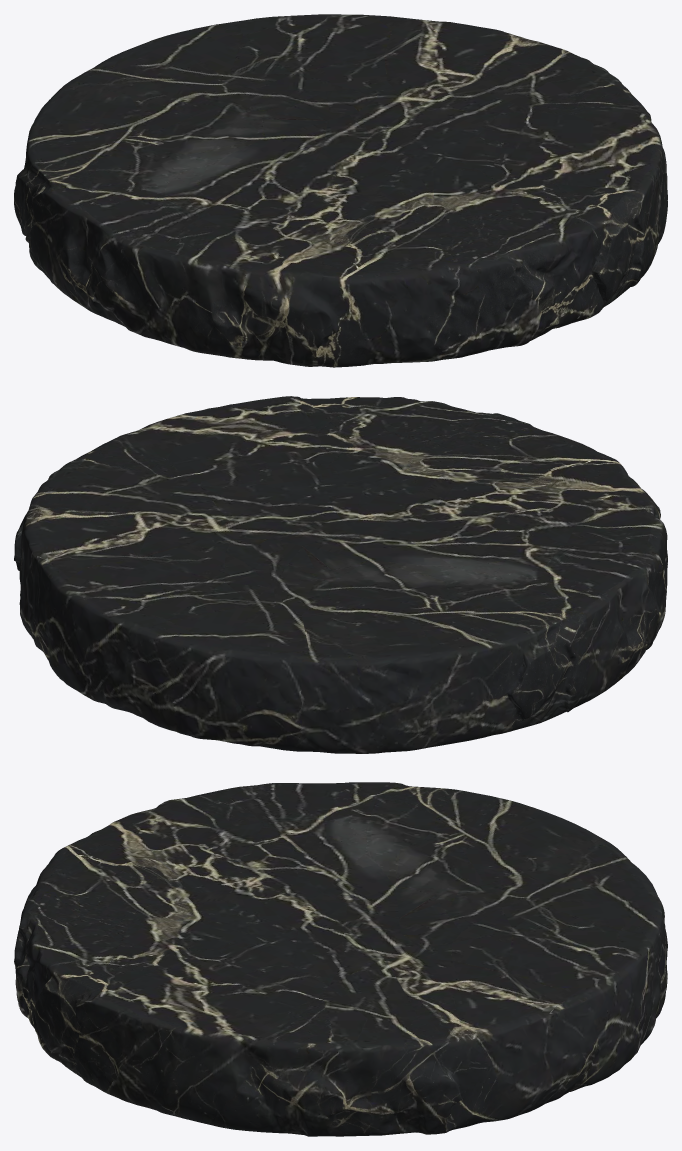
Rendered from slab.glb.
The picture shows the model from 3 angles, top to bottom: view 1: azimuth 30°, elevation 25°; view 2: azimuth 150°, elevation 25°; view 3: azimuth 270°, elevation 25°; orthographic projection.
Bounding box in the file's own units: 1.9 × 0.2974 × 1.89.
Materials: 1 (1 with a texture image).
